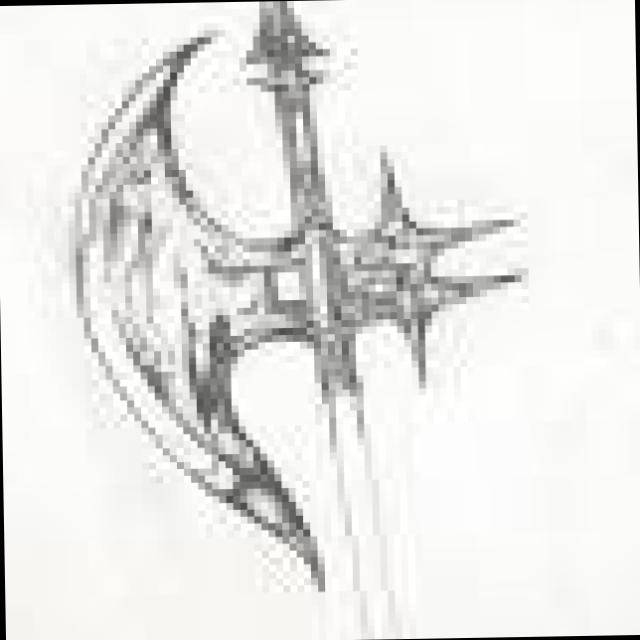Gun: (50, 0, 506, 640)
